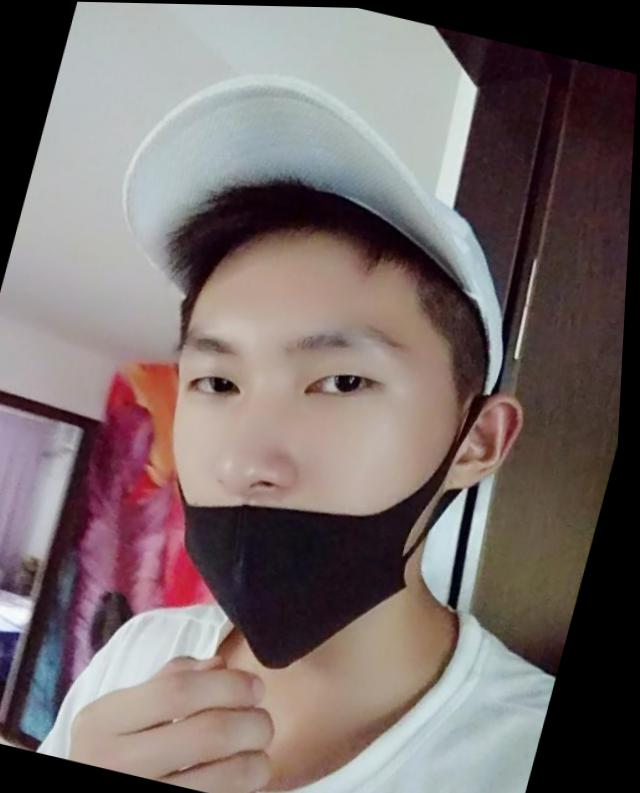WRONG: (115, 267, 490, 681)
